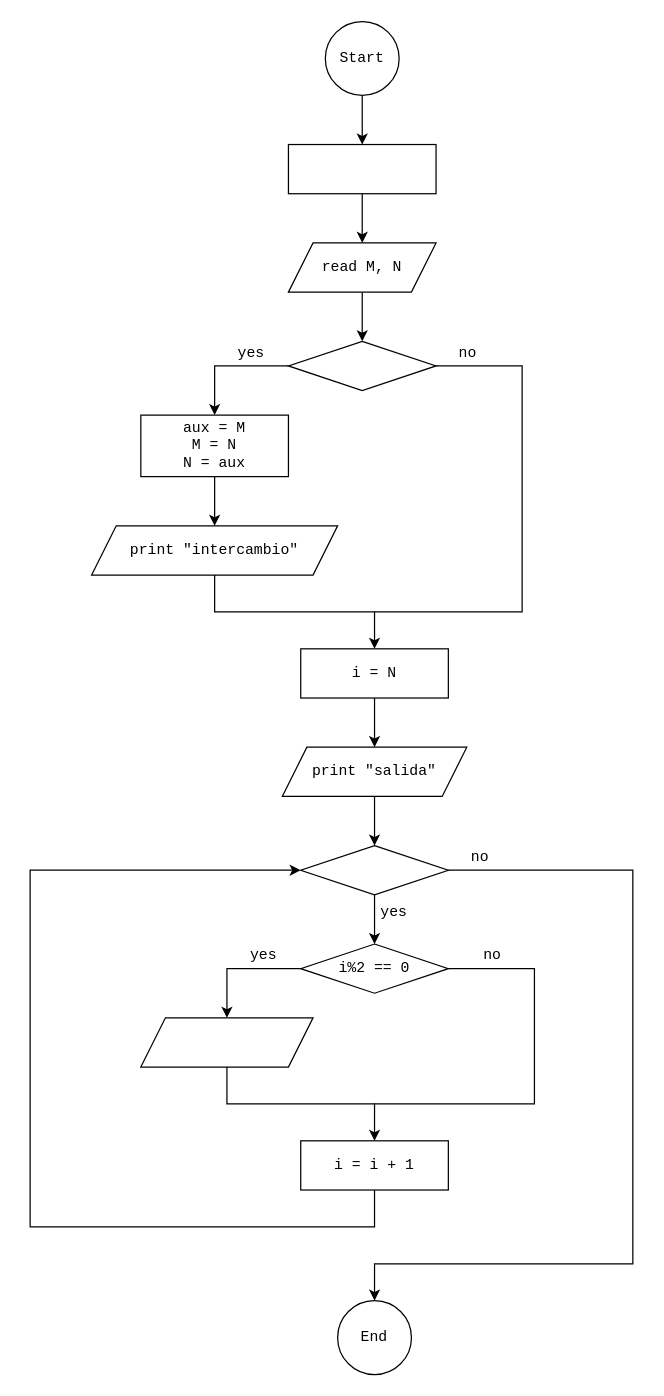
Image size: 664x1396. Some labels were removed from this diagram. The shapes that lost their labels are listed below. From the top down, each one's centre as x and y in pixels, then its label:
At (361,168): "i = 0".
At (361,365): "M < N".
At (374,869): "i <= M".
At (226,1042): "print i".
